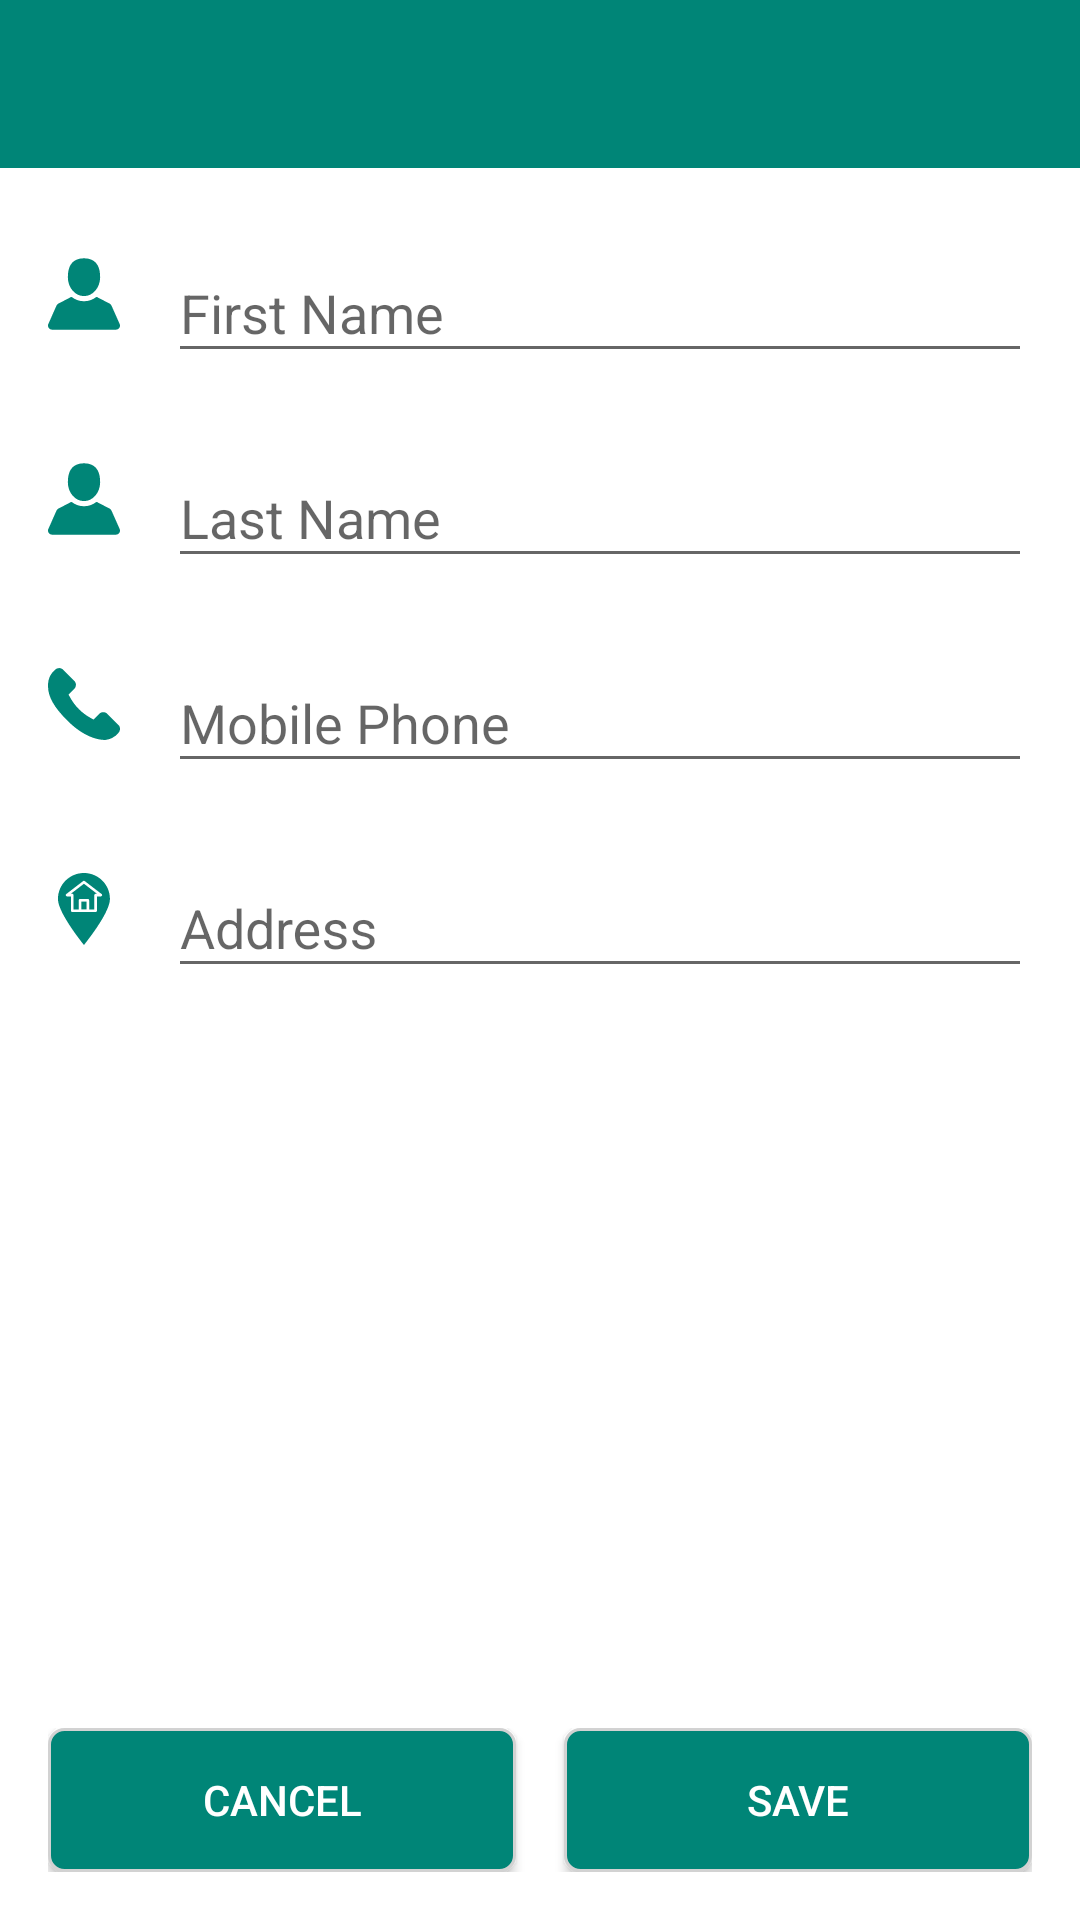

Icons on this 1080 x 1920 Android screen, each with the point to tap as point (x, y):
user: point (84, 294), point (84, 499)
